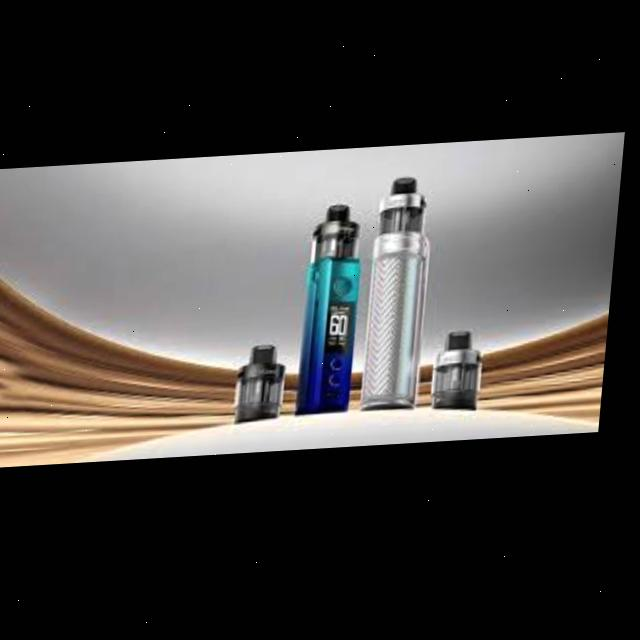vape: (369, 181, 440, 417), (303, 208, 371, 418)
